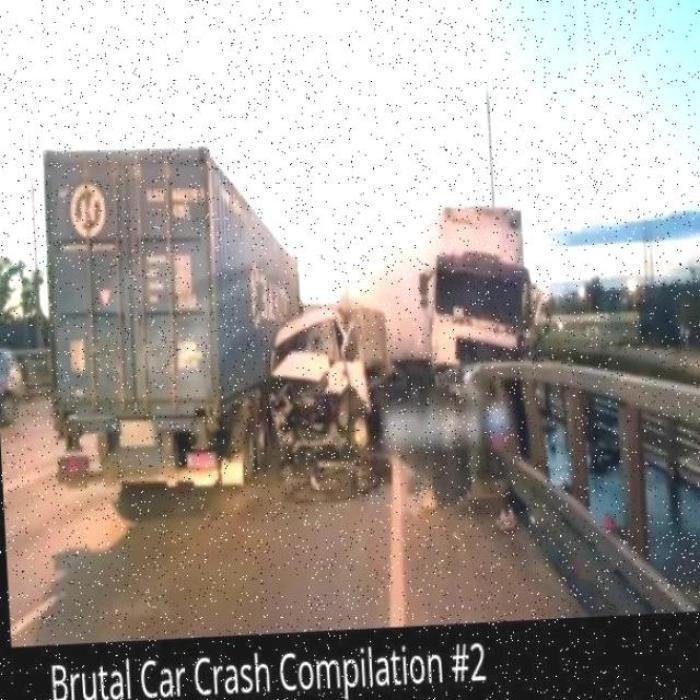Accident: (37, 125, 392, 513), (256, 192, 547, 500)
